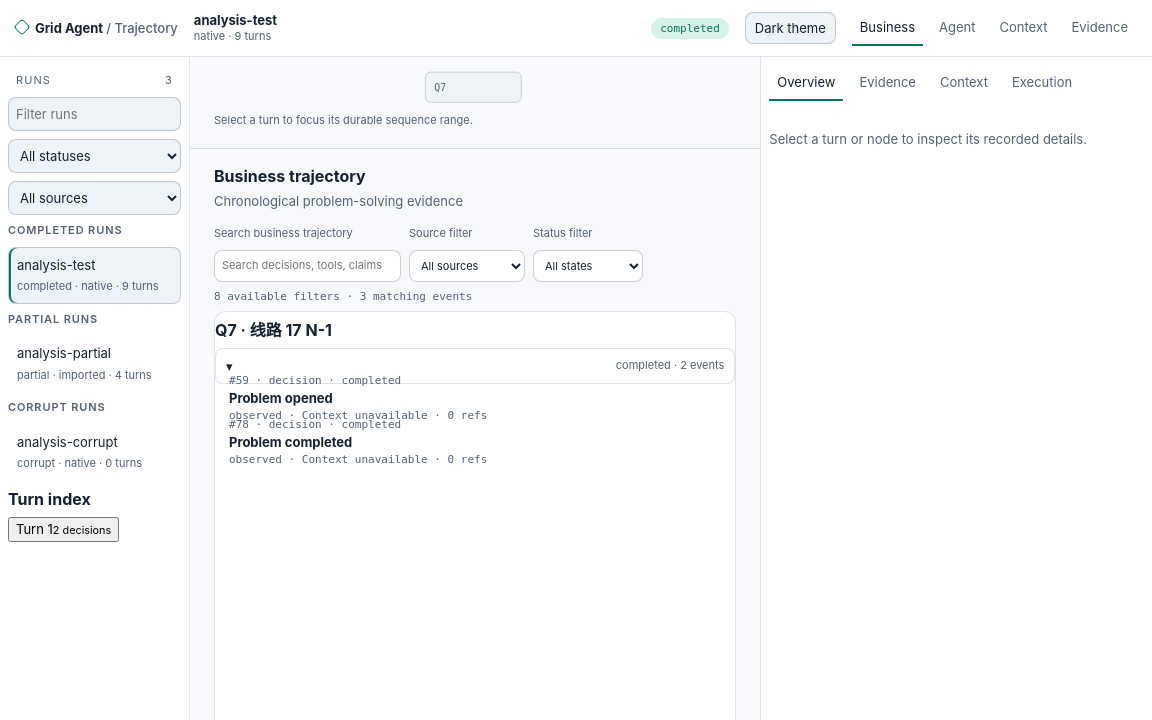
Test: App shell › shows a partial-run status without hiding its durable projection
Click the button "analysis-partial partial · imported · 4 turns" at (94, 364), box [8, 335, 181, 392]
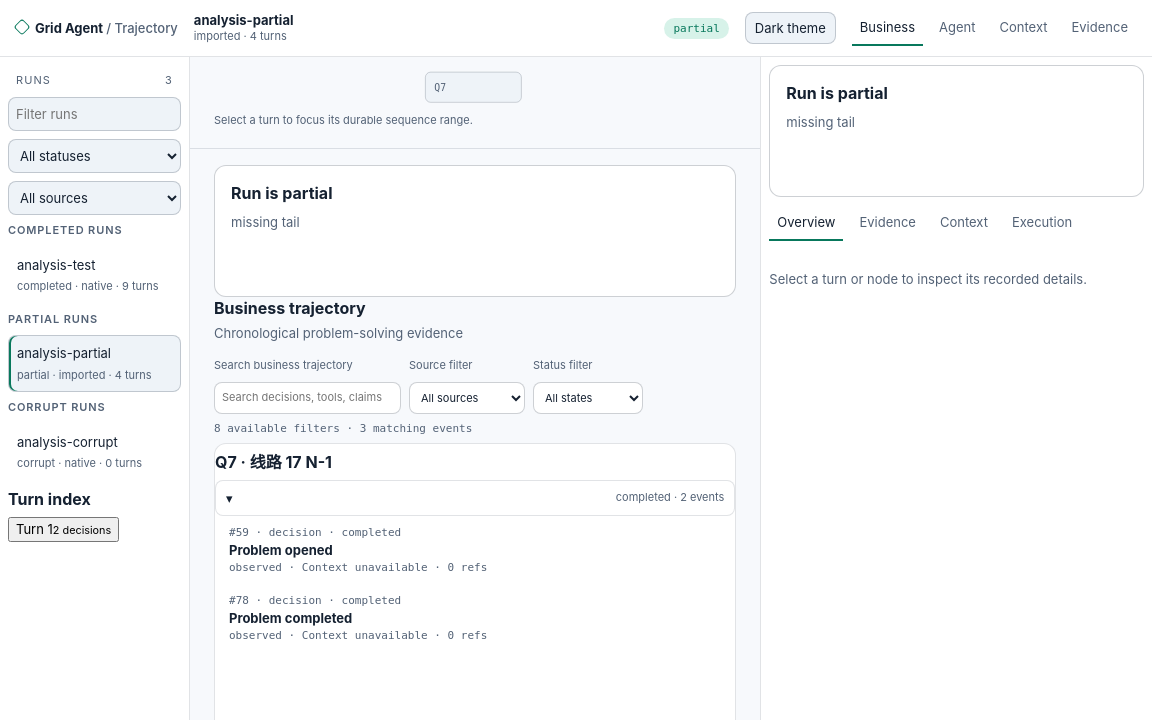
Expected: the heading "Q7 · 线路 17 N-1" is shown, [215, 452, 332, 472]
Now the 2nd message with test id "state-partial" is shown, box [214, 165, 736, 297]
